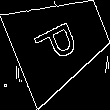P_NE: (33, 15, 87, 69)
